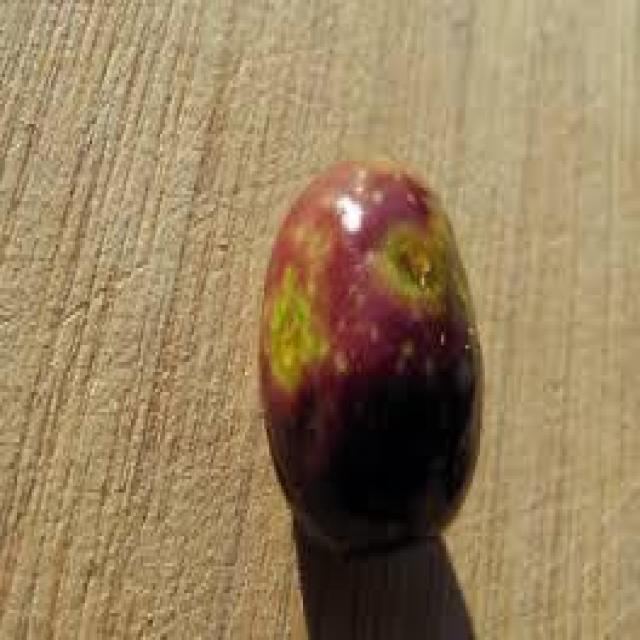Olive Fruit Fly: (262, 161, 480, 570)
